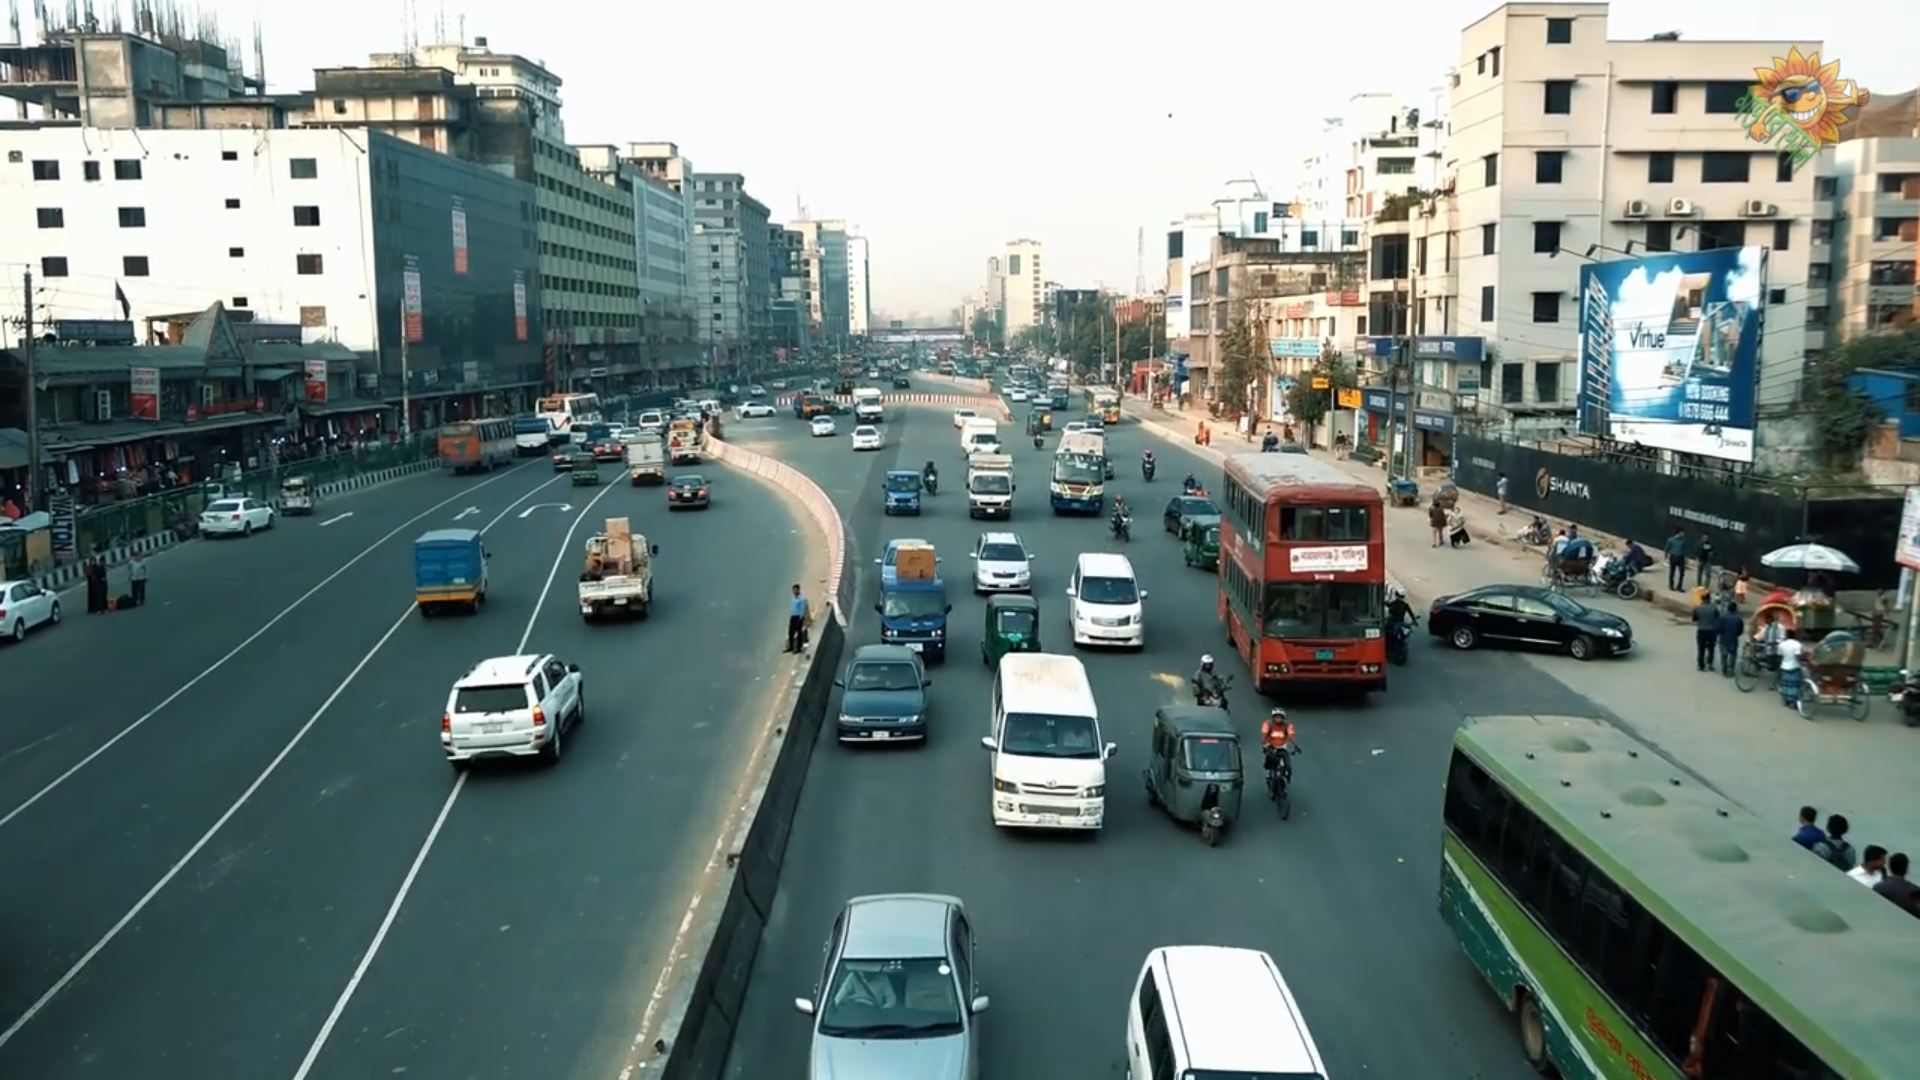HeavyVehicle: (1441, 695, 1920, 1080), (1222, 451, 1395, 698)
LightVehicle: (810, 887, 982, 1080), (1112, 940, 1333, 1080), (971, 647, 1114, 837), (439, 650, 589, 778), (829, 644, 939, 754)
MotorCycle: (1251, 703, 1307, 833), (1108, 500, 1139, 545), (922, 462, 944, 495), (1137, 446, 1153, 483)
